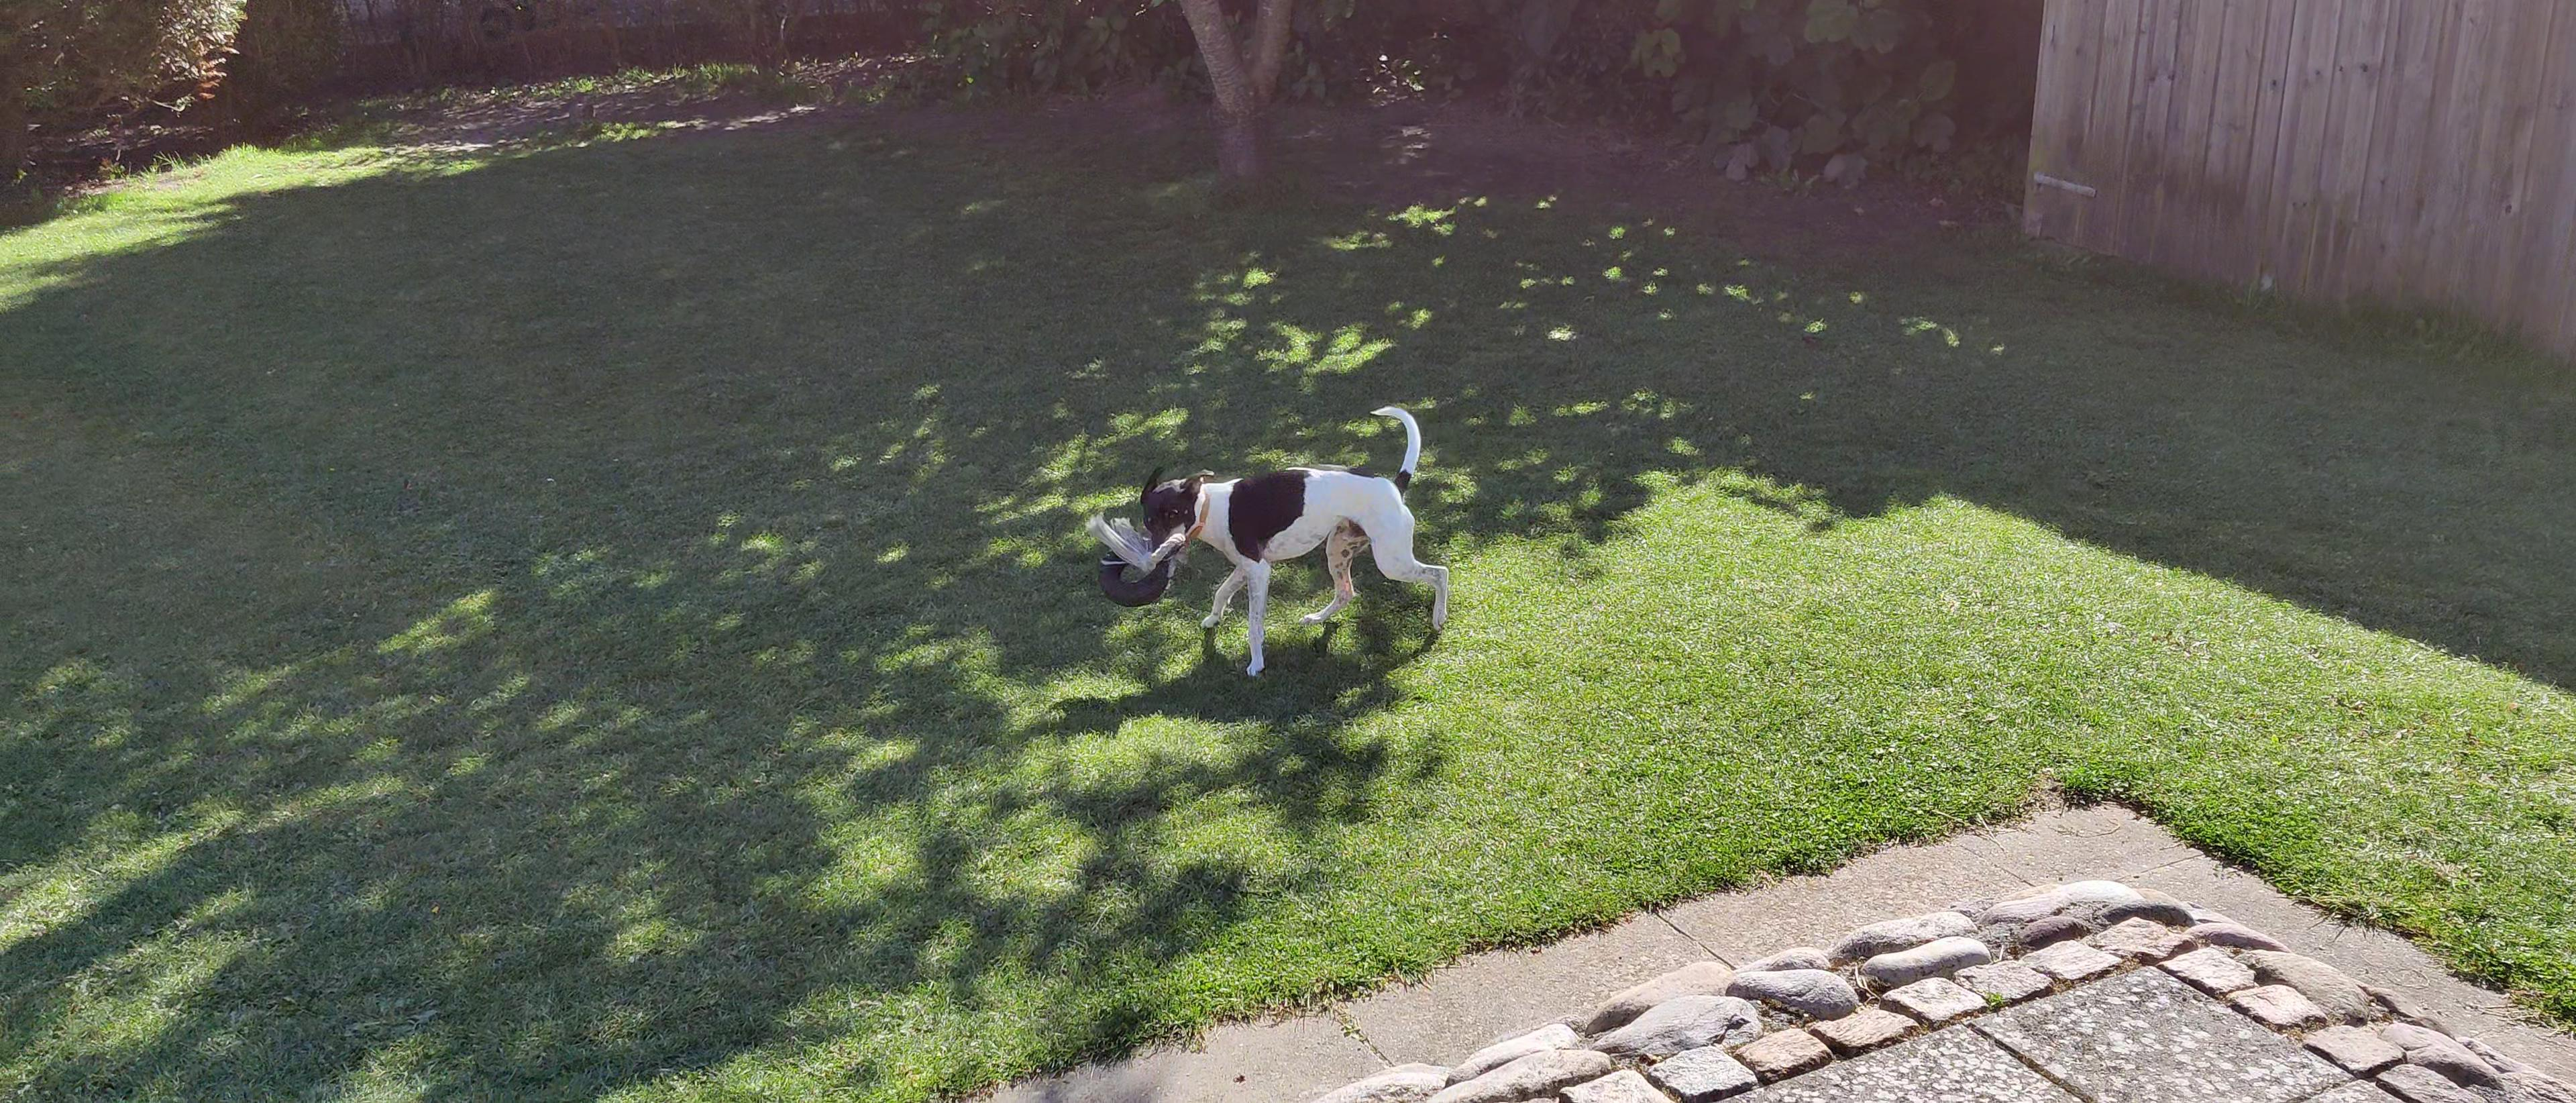Dog: (1117, 401, 1454, 679)
